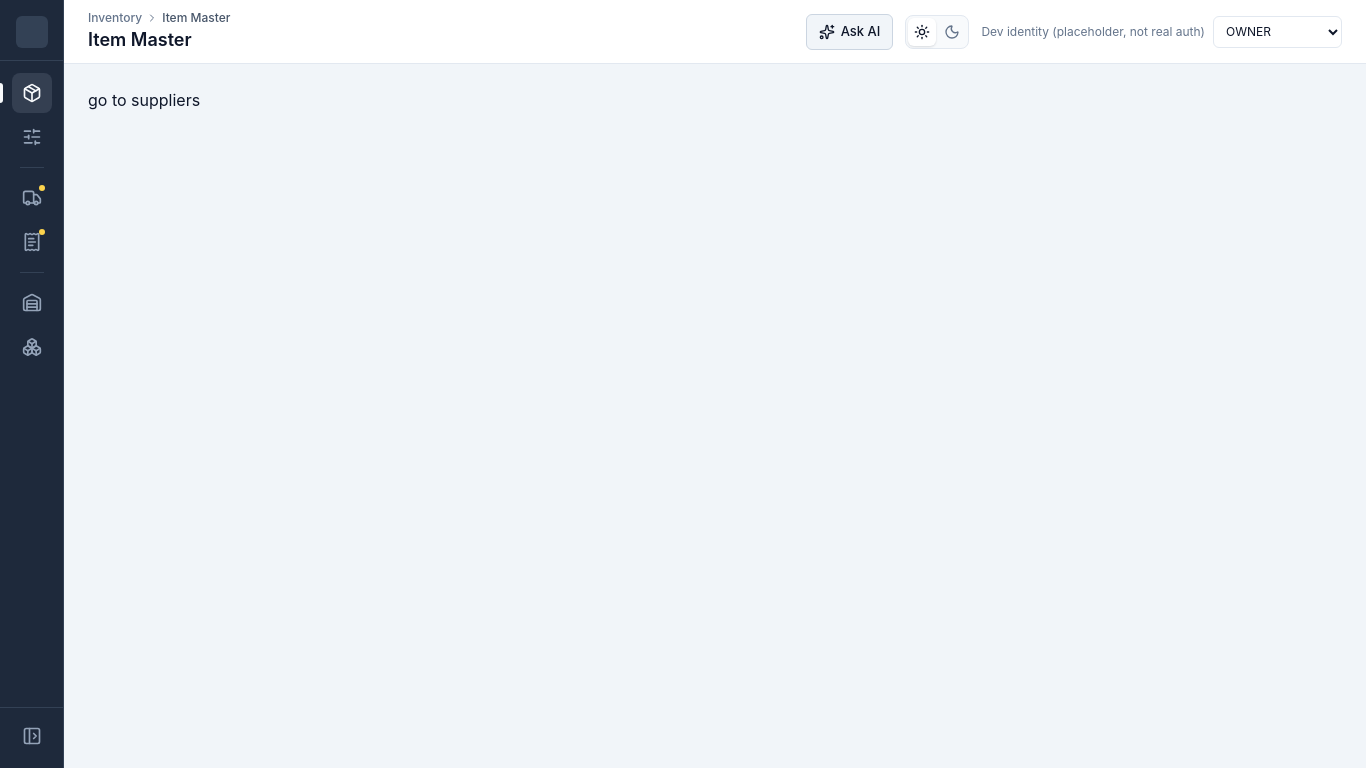
Scenario: Tablet (touch) and mobile variants › tablet: 480px modal sheet with scrim; tapping the scrim closes; shell is inert; 36px targets
Click the button "Ask AI".
click(850, 32)  # box [806,14,893,50]
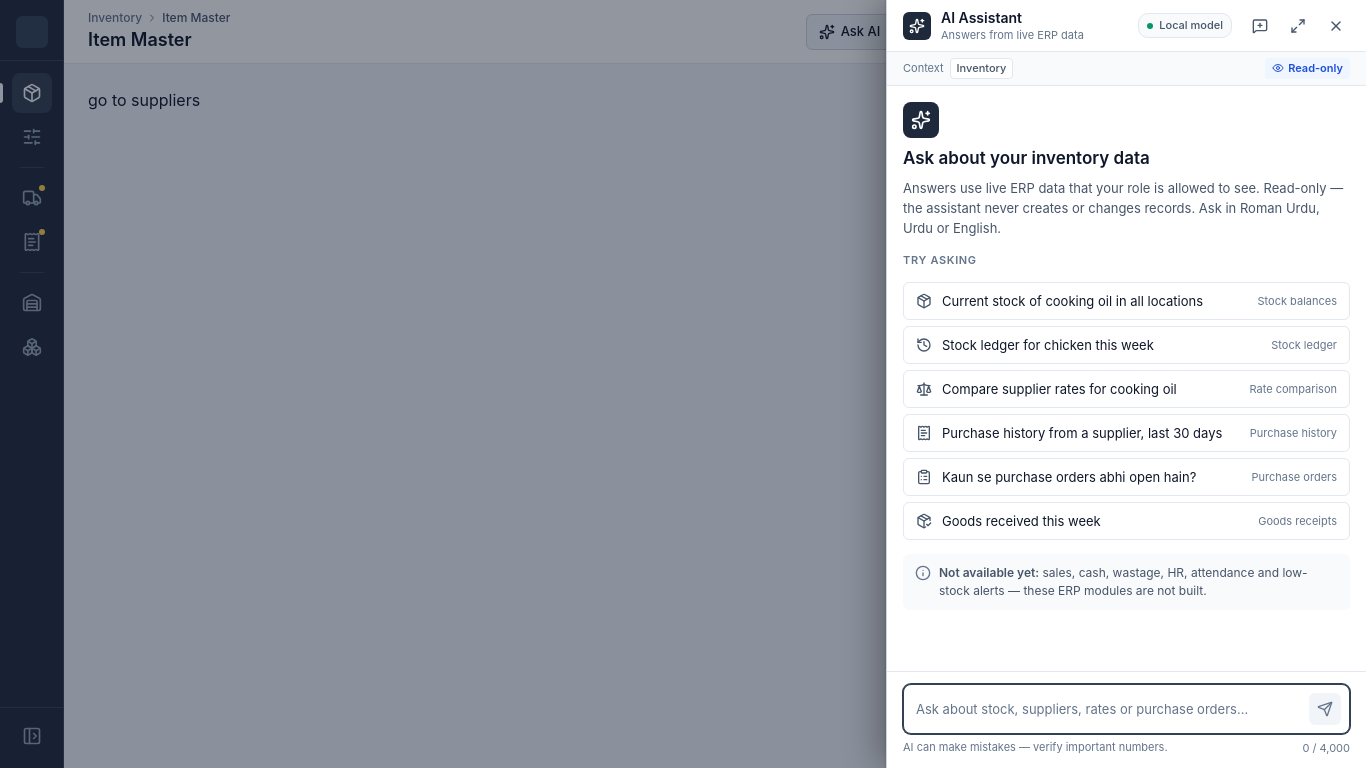
Now the element with test id "shell-root" has attribute inert
Click the element with test id "ai-scrim".
click(683, 384)  # box [0,0,1365,767]
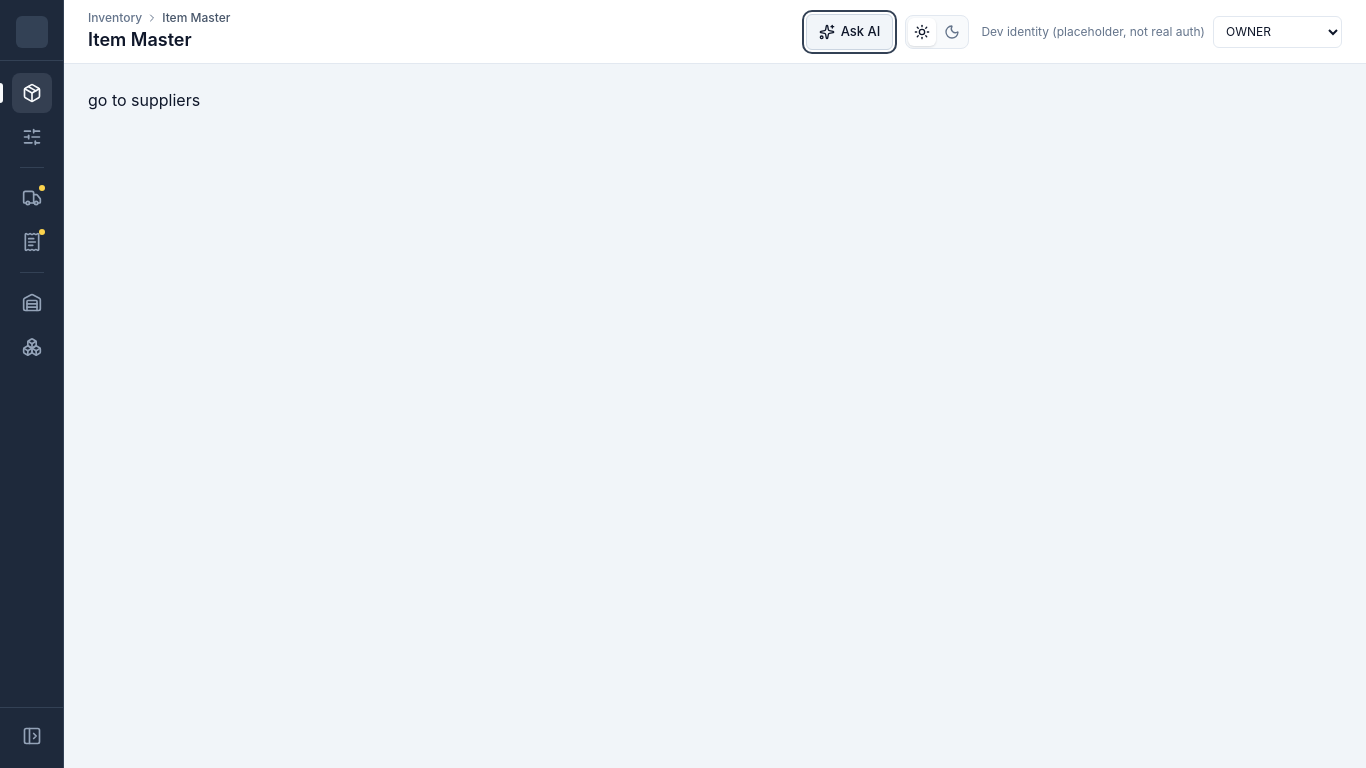
Now the dialog with test id "ai-panel" is gone
